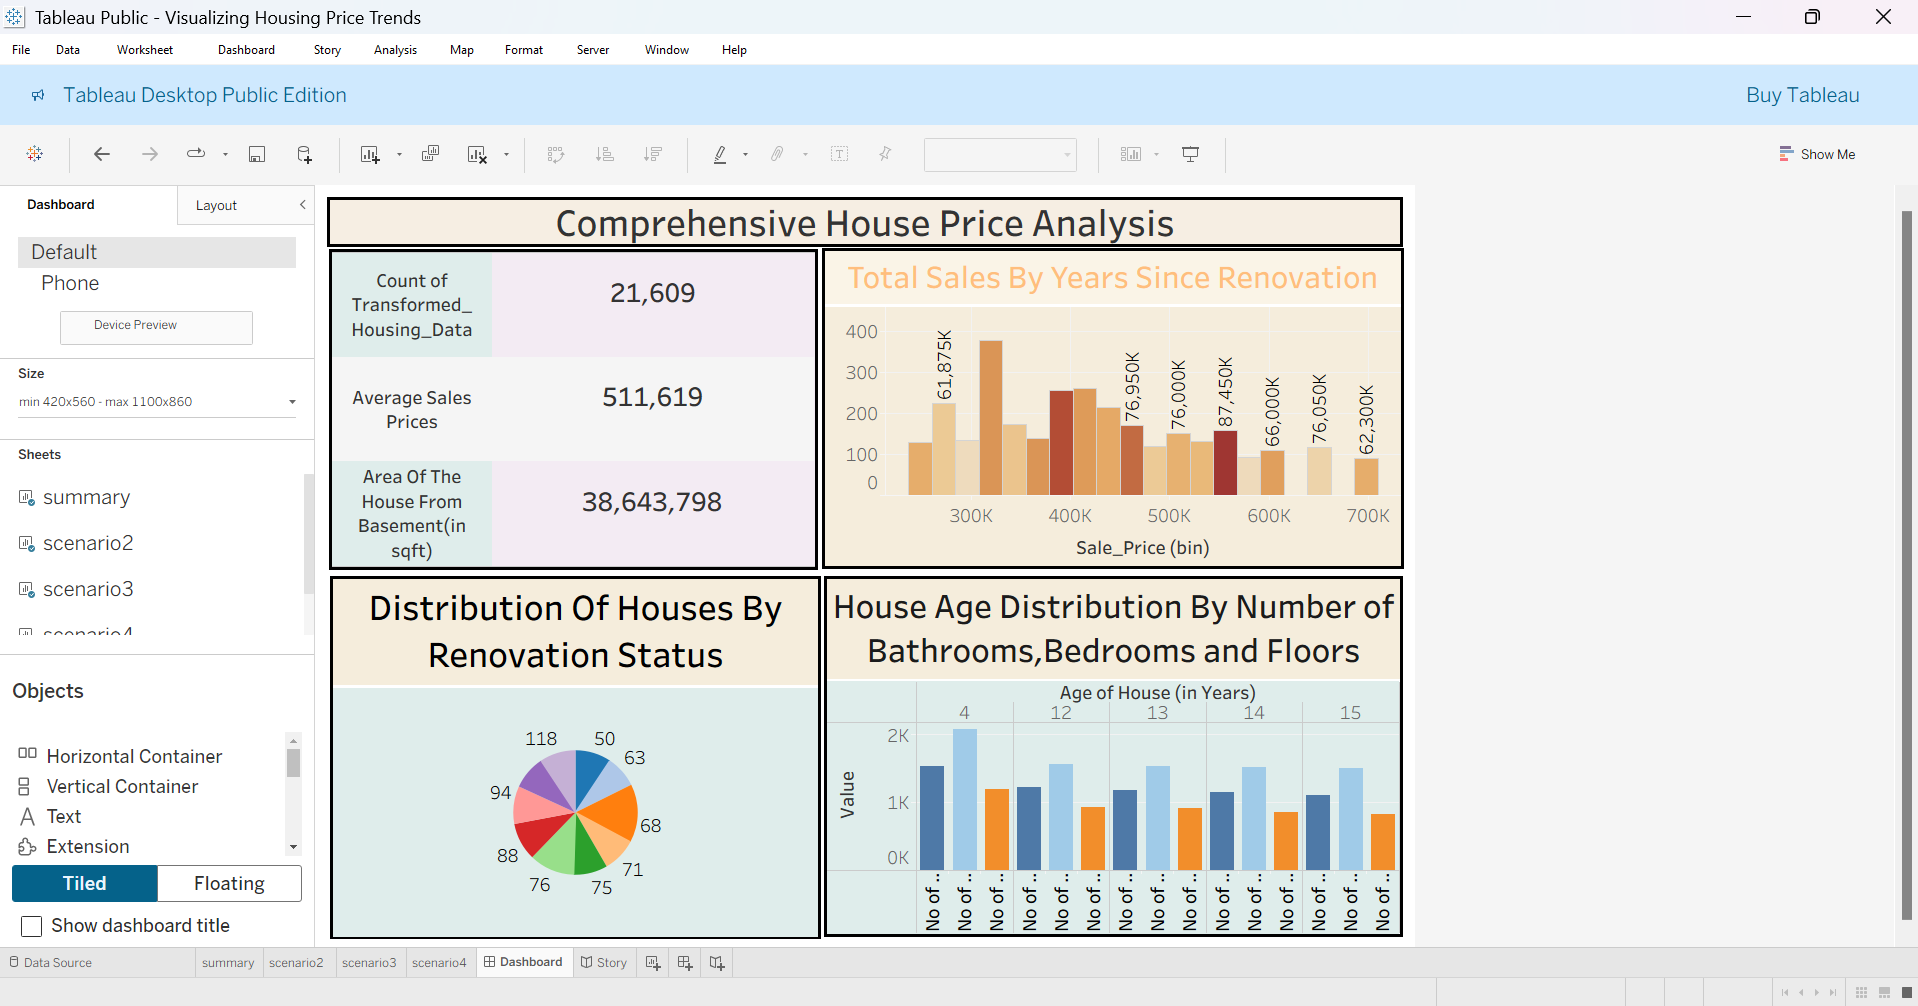

The dashboard page shown, as its layout file describes it:
{"tool":"tableau","page":{"name":"Dashboard ","canvas":[1000,1000],"units":"permille","ordinal":0},"visuals":[{"type":"title","box":[7.3,10.5,985.5,76.1]},{"type":"worksheet","title":"scenario2 ","mark":"Automatic","rows":["Sale_Price"],"cols":["Sale_Price (bin)"],"box":[460.9,82.6,529.1,421.6]},{"type":"worksheet","title":"summary","mark":"Automatic","box":[12.7,84.3,444.6,421.6]},{"type":"worksheet","title":"scenario3","mark":"Pie","box":[13.6,512.6,446.4,477.2]},{"type":"worksheet","title":"scenario4","mark":"Automatic","cols":["Age of House (in Years)"],"box":[462.7,512.6,526.4,473.9]}]}

Visuals, with their boxes on the dashboard's canvas, which has no fixed pixel size, in thousandths of its width and height (x1, y1, x2, y2). These are canvas units, not pixel positions in the 1918x1006 screenshot, which may show the page scaled, cropped or inside an application window:
title: (x1=7, y1=10, x2=993, y2=87)
"scenario2 " worksheet: (x1=461, y1=83, x2=990, y2=504)
"summary" worksheet: (x1=13, y1=84, x2=457, y2=506)
"scenario3" worksheet (Pie marks): (x1=14, y1=513, x2=460, y2=990)
"scenario4" worksheet: (x1=463, y1=513, x2=989, y2=986)
